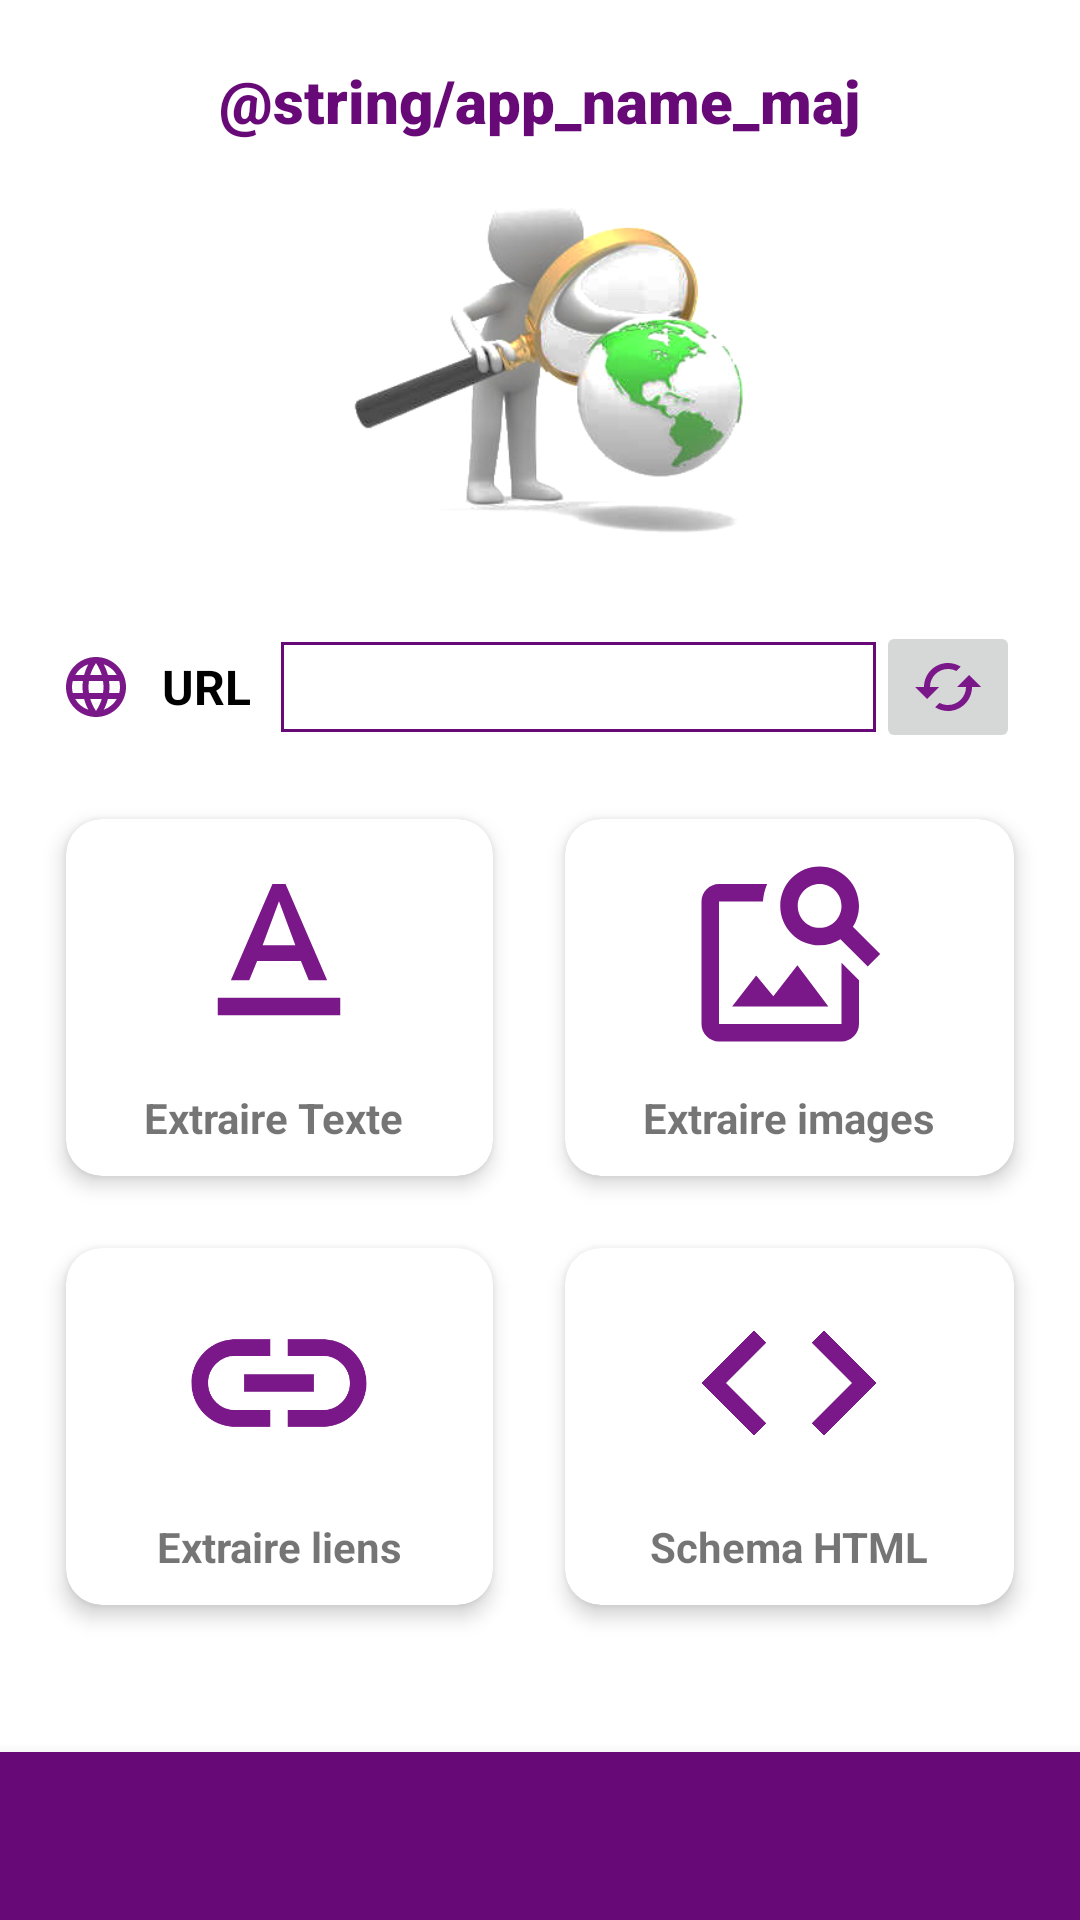

Icons on this 1080w x 1920h Android screen, each with its box as (left=x1, top=y1, right=x2, bottom=y2):
actualiser: (left=888, top=639, right=1008, bottom=735)
code: (left=702, top=1331, right=876, bottom=1435)
world: (left=66, top=657, right=126, bottom=717)
